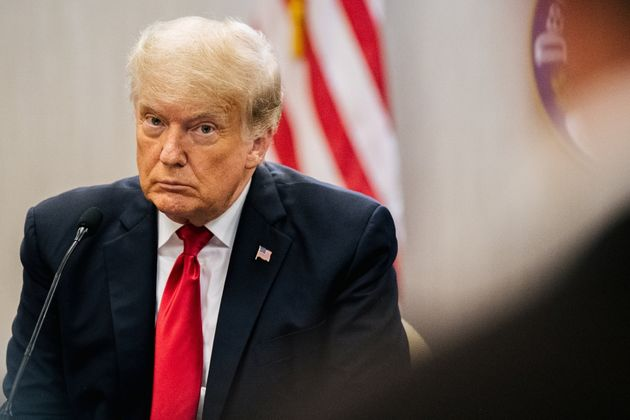without_mask: (134, 92, 251, 214)
